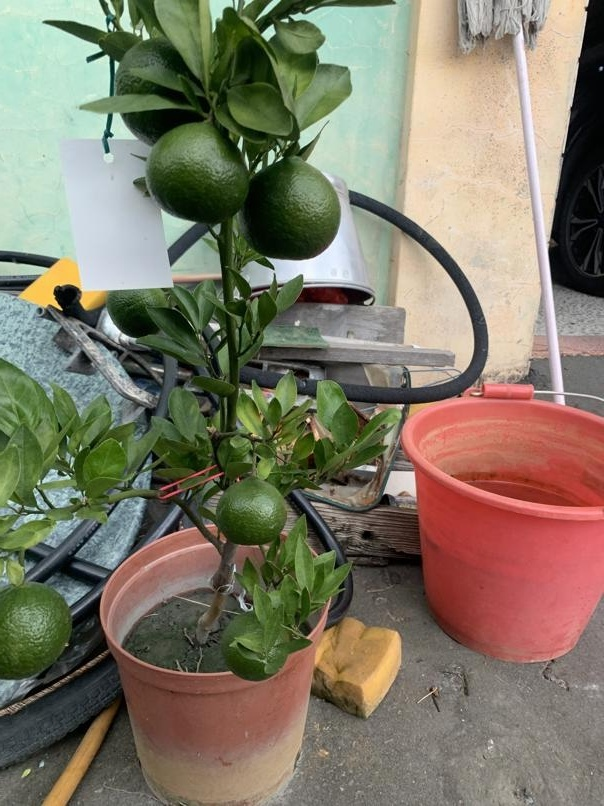Tangerine: (143, 116, 249, 225), (236, 157, 342, 260), (0, 582, 71, 677), (211, 475, 287, 543)
